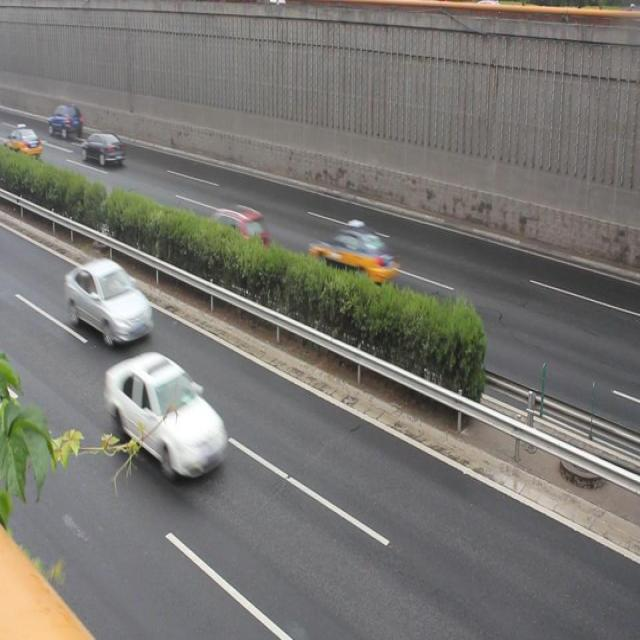car: (106, 352, 229, 474), (66, 256, 153, 343), (188, 203, 274, 277), (307, 223, 399, 291), (80, 132, 124, 170)
